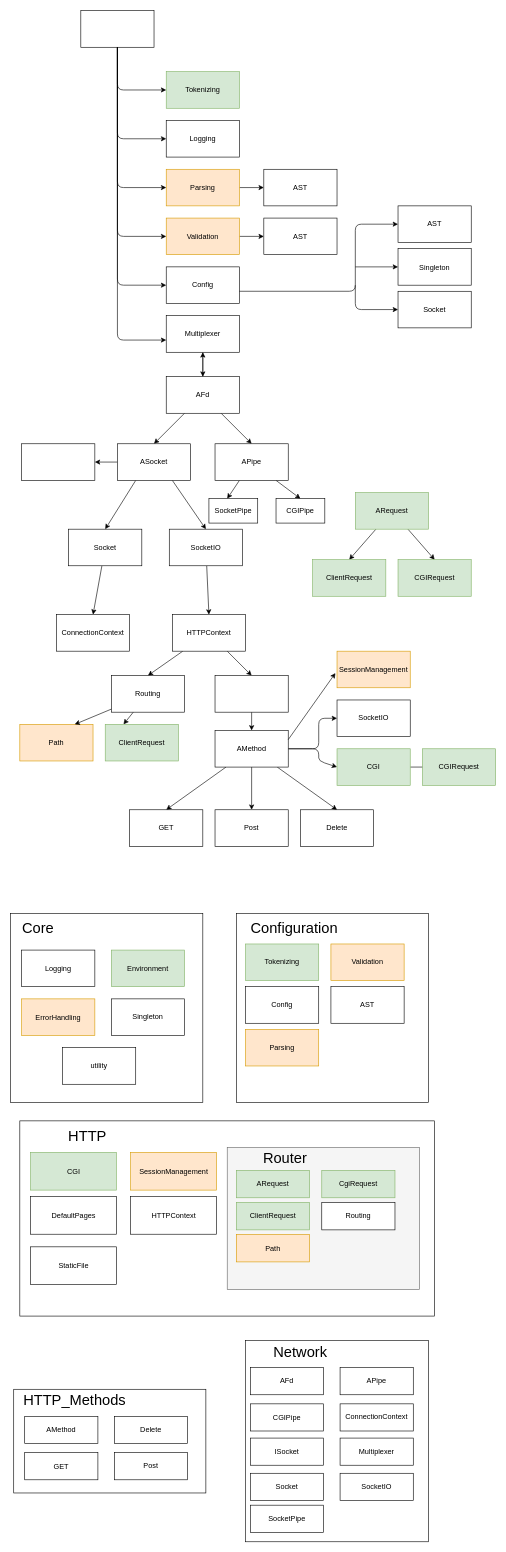
The diagram is 506 pixels wide and 1552 high, and some of its shapes have lost their labels. The shapes that lost their labels are listed below. From the top down, each one's box as (x1, y1, x2, y2) in pixels, then its label:
(80, 10, 154, 47): main
(21, 443, 95, 480): IContext
(214, 675, 288, 712): Repsense
